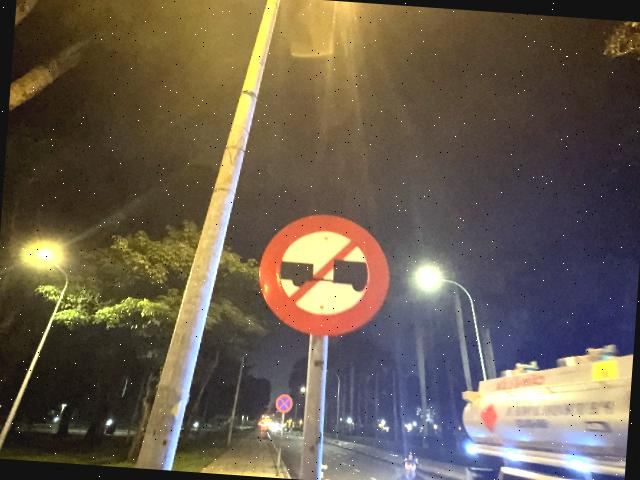cam-xe-somi-romooc: (253, 209, 393, 341)
